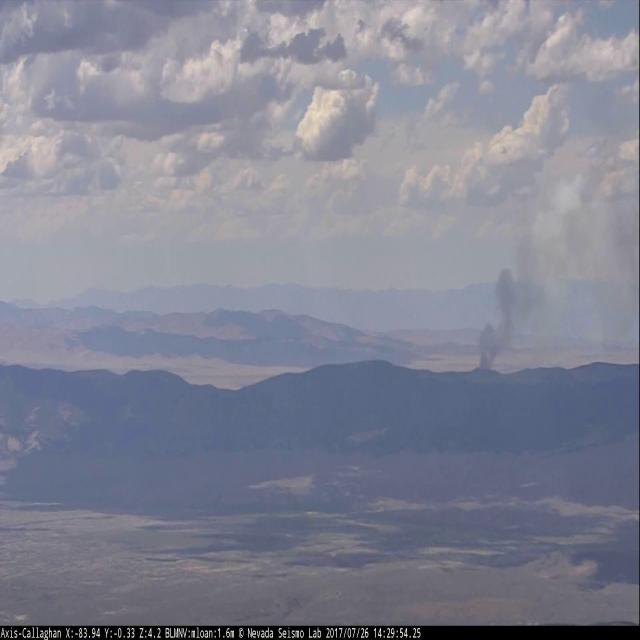smoke: (467, 74, 640, 374)
